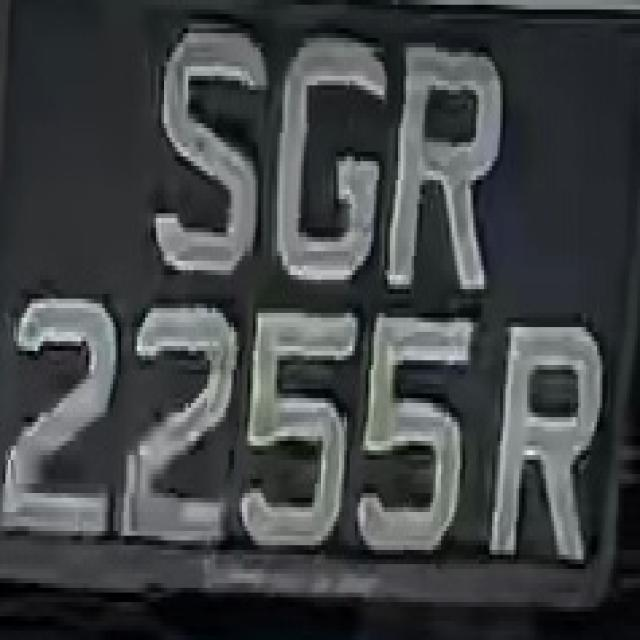2: (121, 284, 234, 560), (8, 275, 113, 559)
5: (358, 280, 470, 564), (245, 289, 358, 555)
G: (266, 24, 393, 298)
R: (392, 15, 506, 304), (503, 299, 597, 578)
S: (150, 14, 252, 280)
